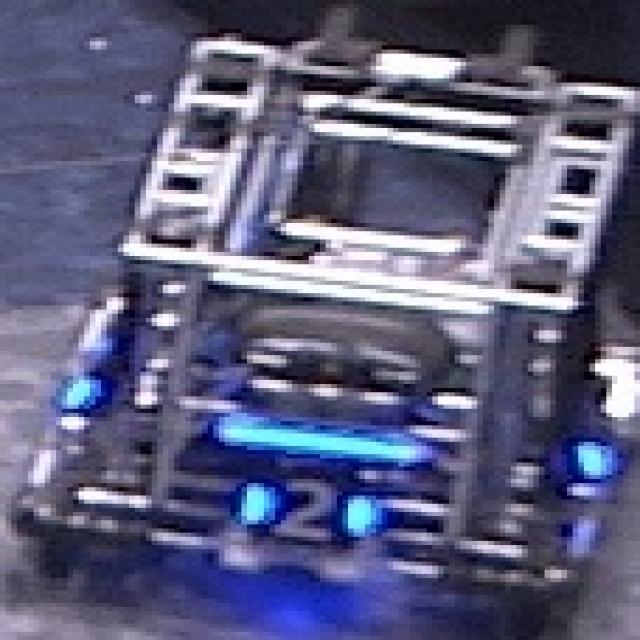B2: (236, 475, 376, 541)
